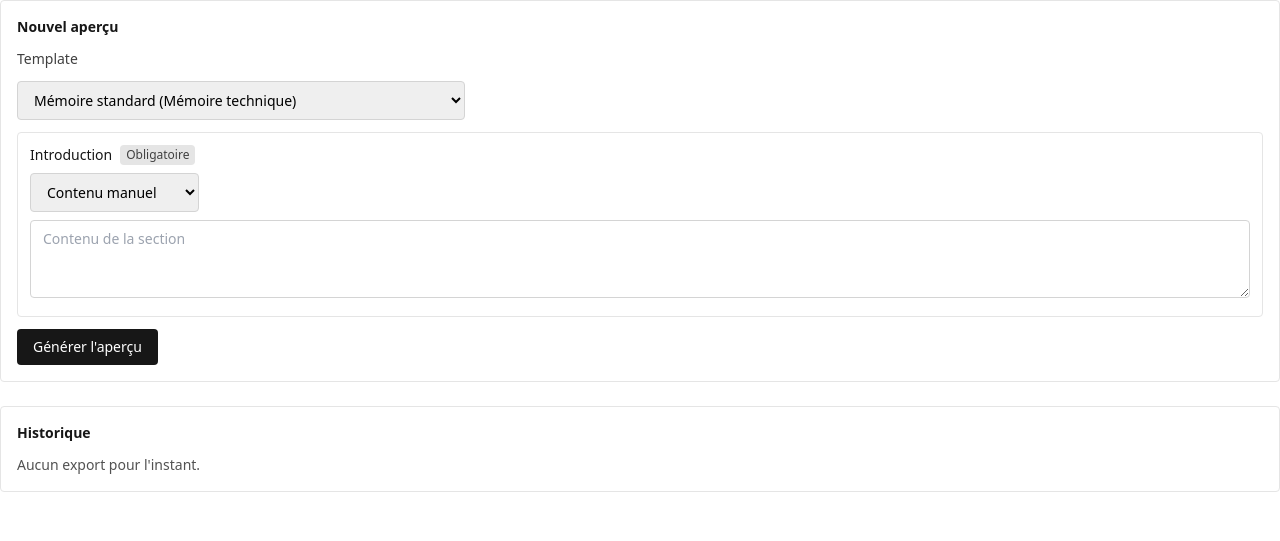
Test case: ExportSection › displays the backend error returned by previewExportAction, never a silent failure
Click the button "Générer l'aperçu" at coordinates (87, 347), box [17,329,158,365]
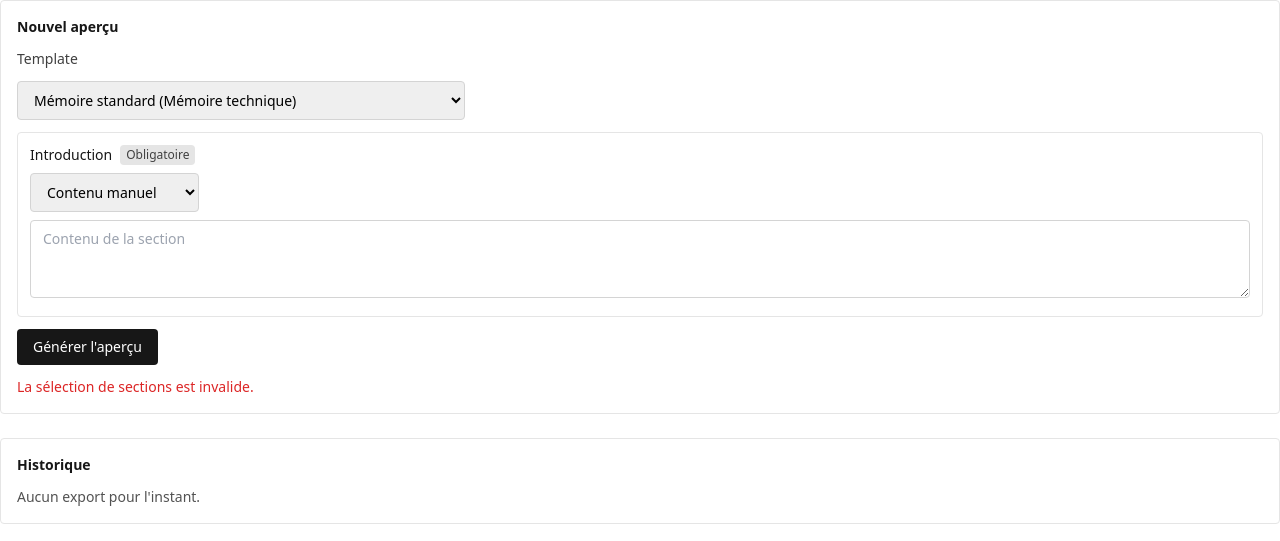
Expected: the message reads "La sélection de sections est invalide.", [17,377,254,396]
